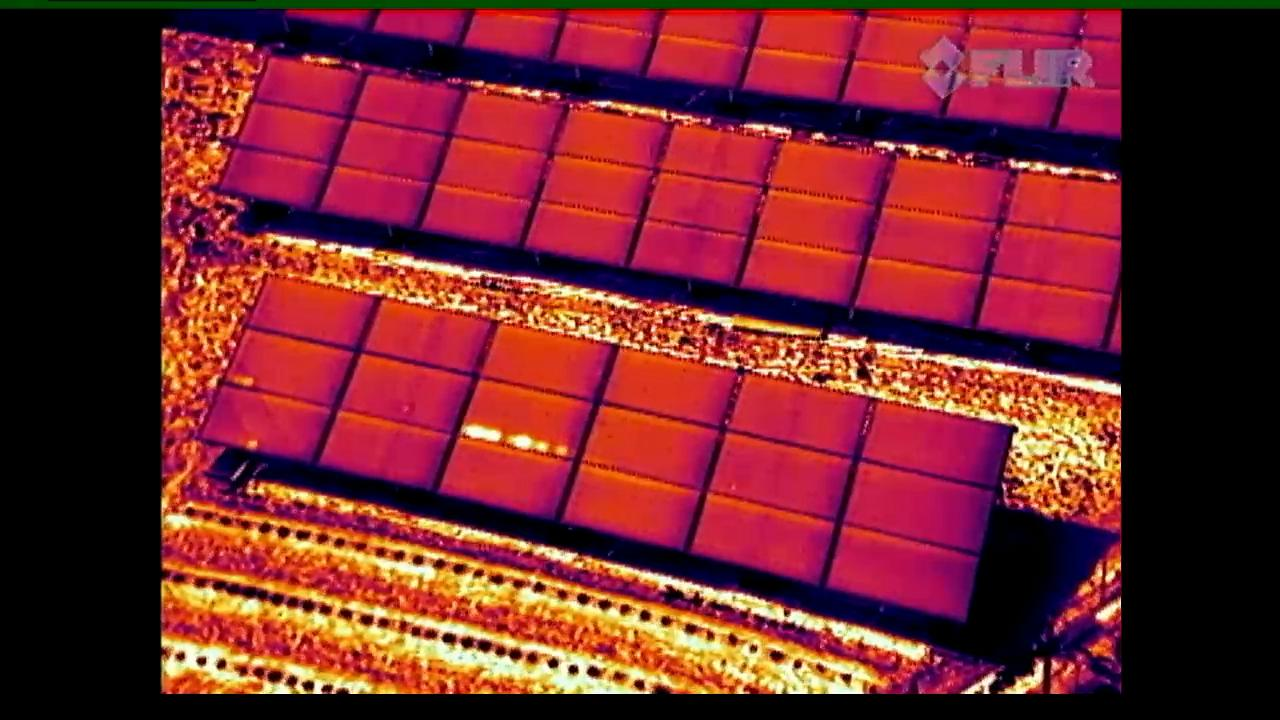hotspot: (439, 323, 613, 528)
